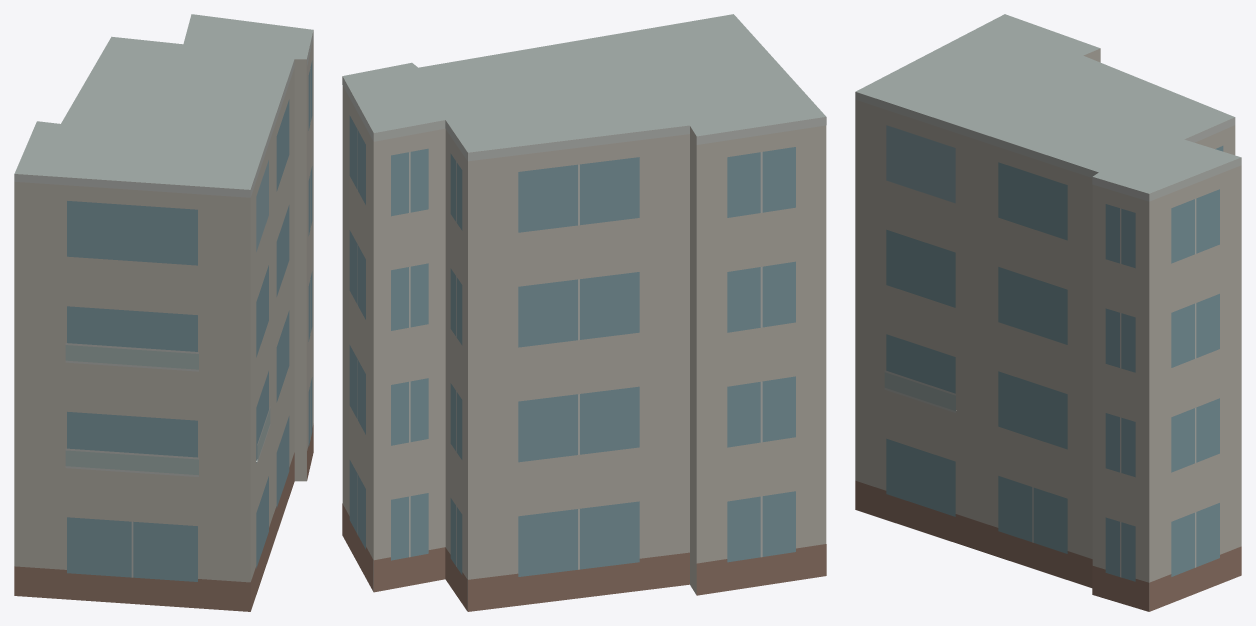
The model's file is survey-upis-32475042.glb.
The picture shows the model from 3 angles, left to right: view 1: azimuth 30°, elevation 25°; view 2: azimuth 150°, elevation 25°; view 3: azimuth 270°, elevation 25°; orthographic projection. The views are drawn at different scales.
Visible parts, largest first — view 1: survey-upis-32475042.tmp; view 2: survey-upis-32475042.tmp; view 3: survey-upis-32475042.tmp.
Part boxes in pixels (x1=…): survey-upis-32475042.tmp: x1=14, y1=14, x2=313, y2=611; survey-upis-32475042.tmp: x1=342, y1=14, x2=826, y2=611; survey-upis-32475042.tmp: x1=855, y1=14, x2=1241, y2=611.
Bounding box in the file's own units: 12 × 13 × 10.89.
